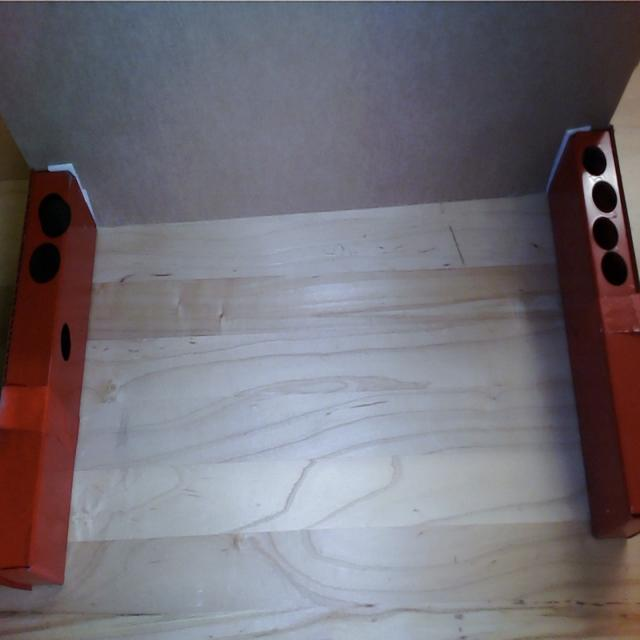Hole: (580, 140, 608, 177), (598, 252, 628, 285), (591, 218, 620, 250), (592, 180, 619, 212), (56, 321, 75, 364), (39, 190, 63, 223)
Sticker: (28, 242, 59, 286), (42, 200, 70, 238)
